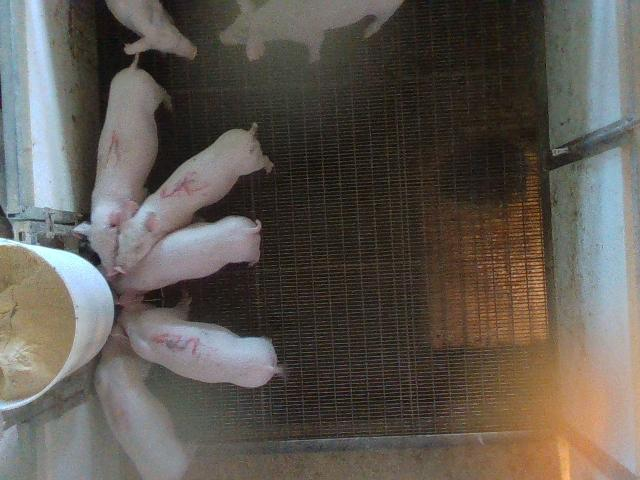pig-1: (75, 55, 170, 277)
pig-3: (118, 295, 284, 387)
pig-4: (95, 325, 189, 479)
pig-5: (116, 124, 274, 272)
